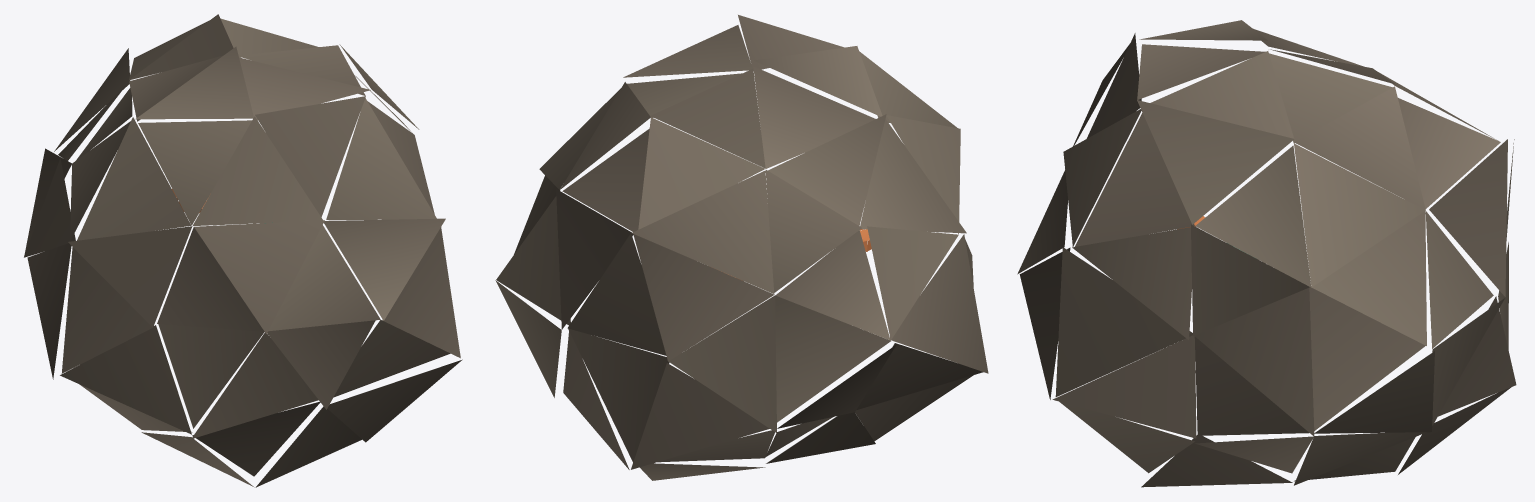
The model's file is small-lod2.glb.
The picture shows the model from 3 angles, left to right: view 1: azimuth 30°, elevation 25°; view 2: azimuth 150°, elevation 25°; view 3: azimuth 270°, elevation 25°; orthographic projection. The views are drawn at different scales.
Parts seen in each view (by area): view 1: copper-host-rock; view 2: copper-host-rock; view 3: copper-host-rock.
Part boxes in pixels (<box>): copper-host-rock: <box>24,14,462,487</box>; copper-host-rock: <box>495,15,988,480</box>; copper-host-rock: <box>1017,20,1516,487</box>.
Bounding box in the file's own units: 2.19 × 2 × 2.16.
